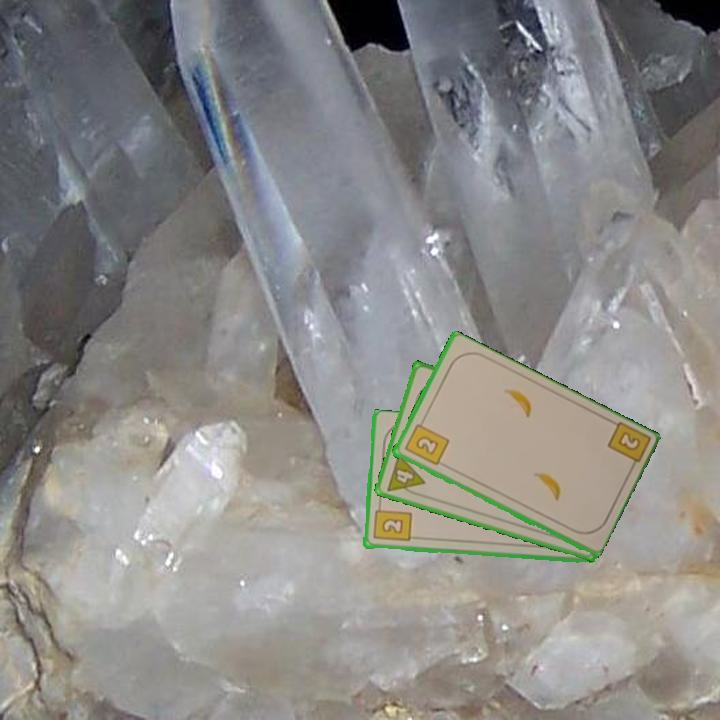2b: (401, 416, 452, 469), (603, 419, 651, 475), (370, 500, 414, 545)
4p: (383, 450, 428, 500)
